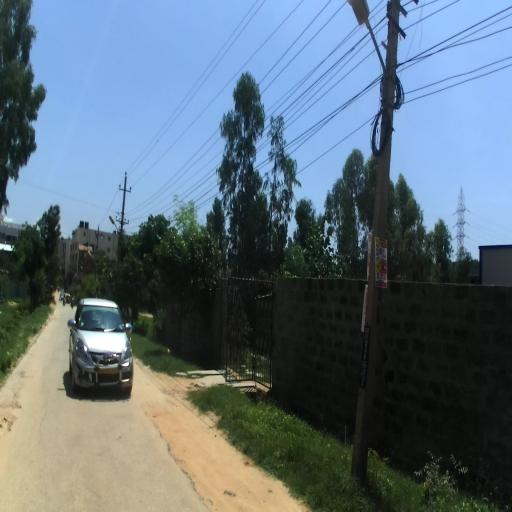street_light_0: (346, 0, 396, 132), (109, 216, 122, 246), (88, 250, 98, 266)
